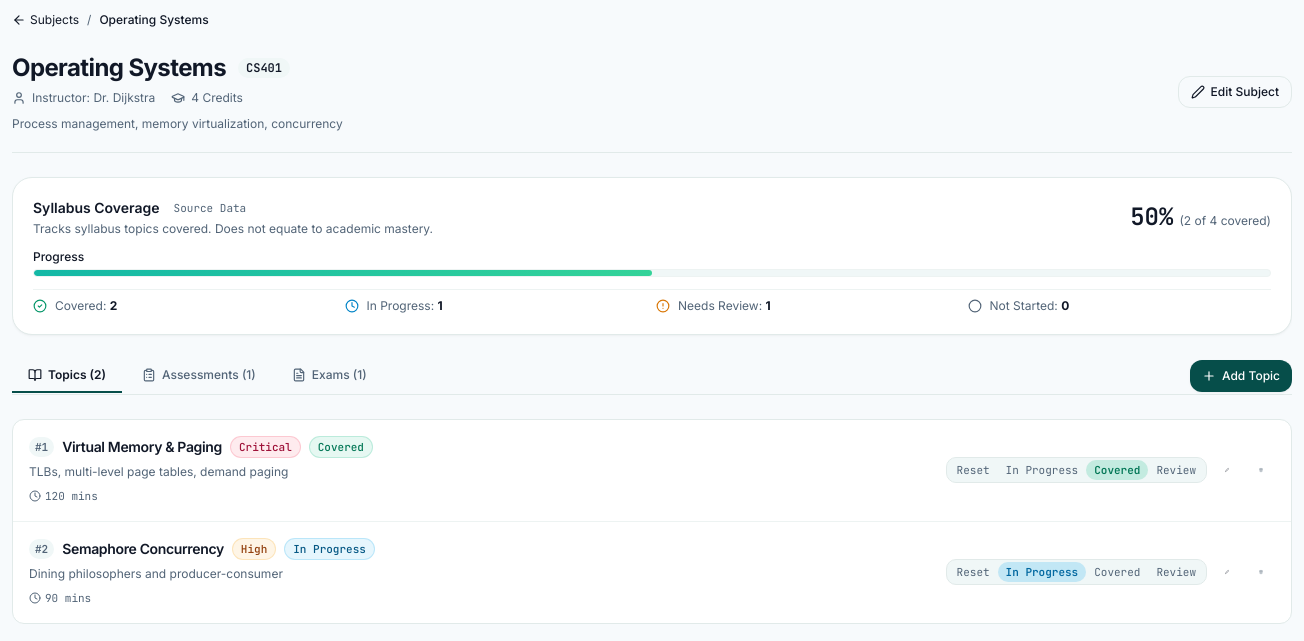
Academics Frontend Pages › SubjectDetailPage renders subject details, topics, and syllabus coverage
Expected: the heading "Operating Systems" is shown, [12,52,226,84]
Expected: the text "Instructor: Dr. Dijkstra" is shown, [32,90,155,106]
Note: Tab switching
Click the button "Assessments (1)" at (199,376), box [126,358,272,392]
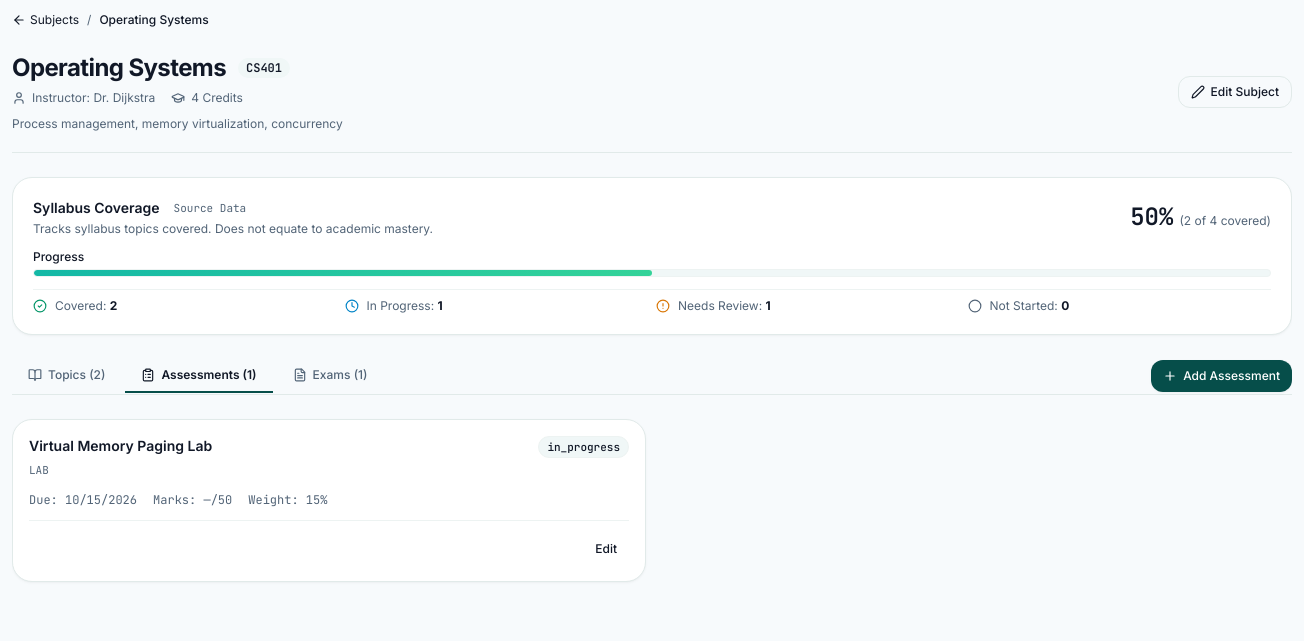
Now the heading "Virtual Memory Paging Lab" is shown, box [29,436,212,456]
Click the button "Exams (1)" at (330,376), box [277,358,384,392]
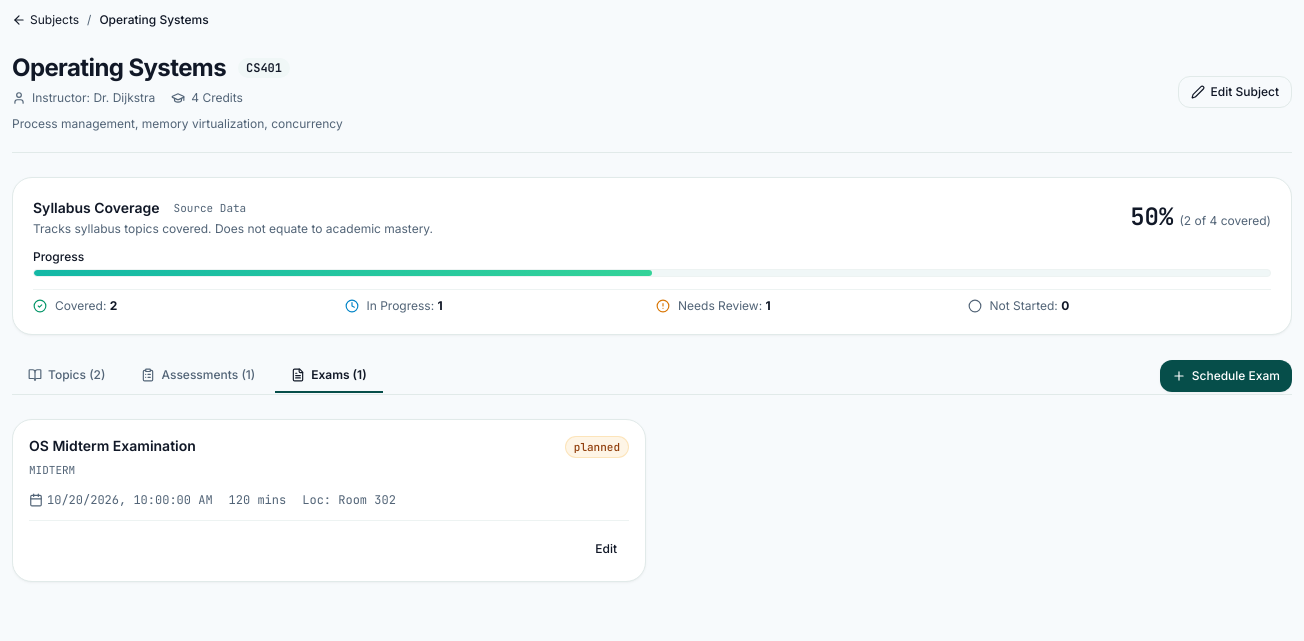
Now the heading "OS Midterm Examination" is shown, box [29,436,196,456]
